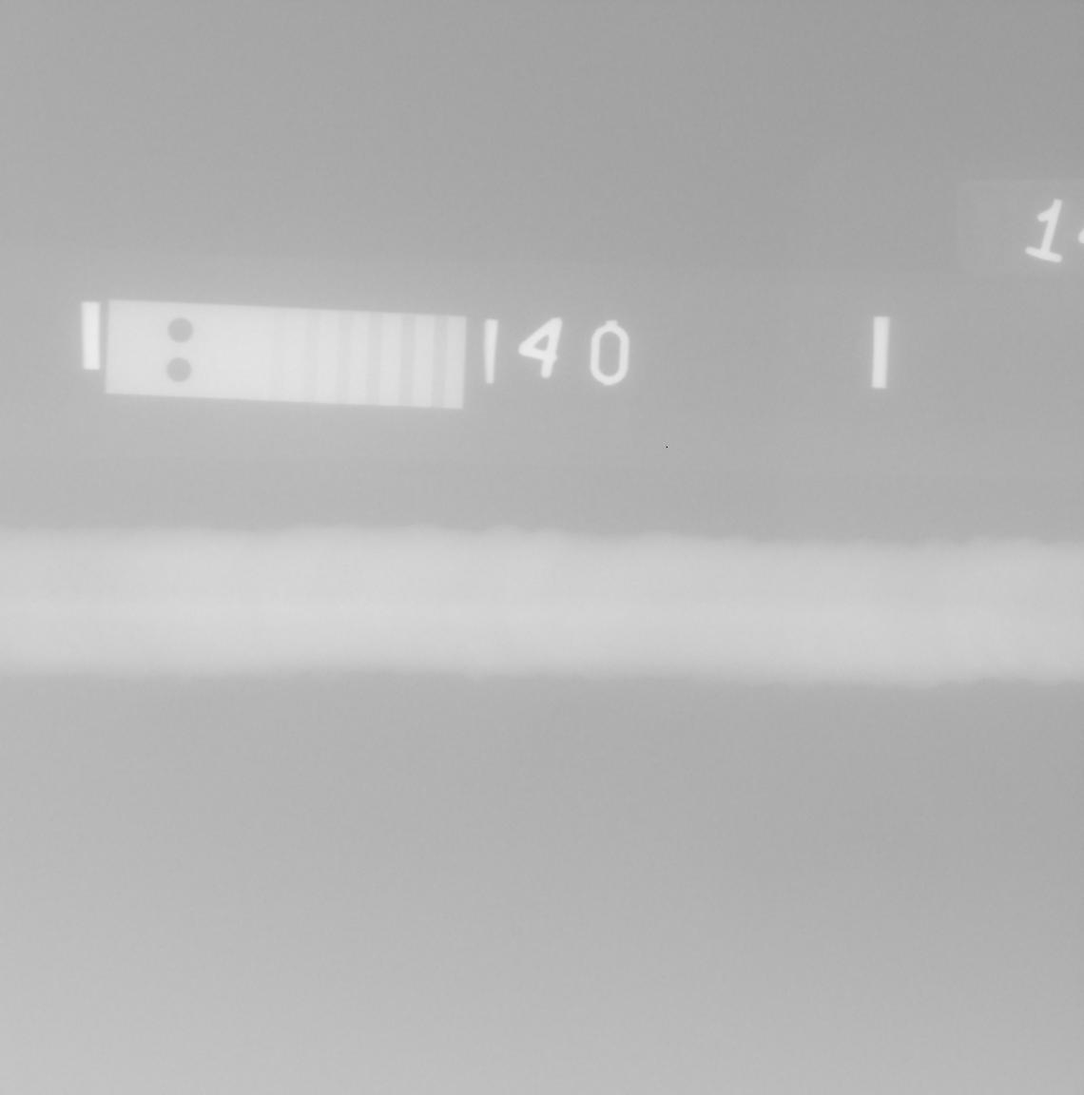Reference Standard 2: (104, 299, 466, 410)
